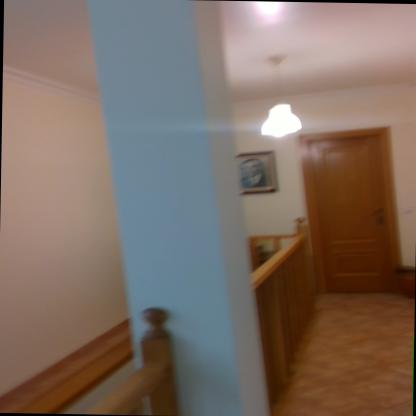closed: (292, 116, 404, 300)
